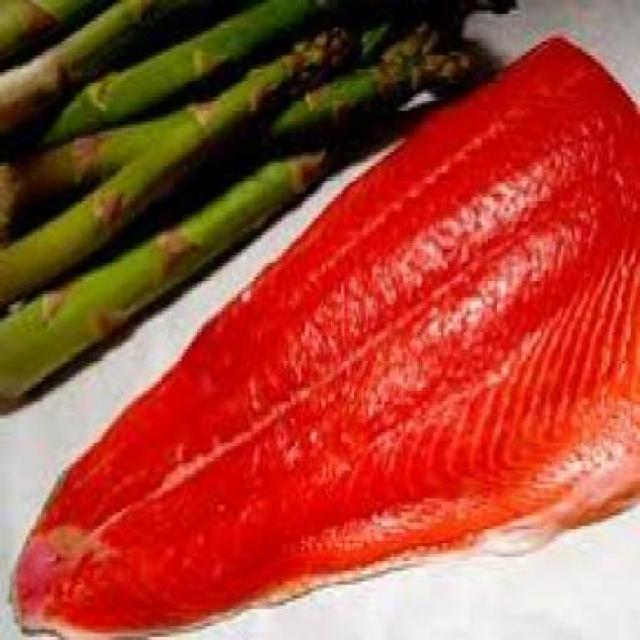salmon: (15, 34, 640, 635)
